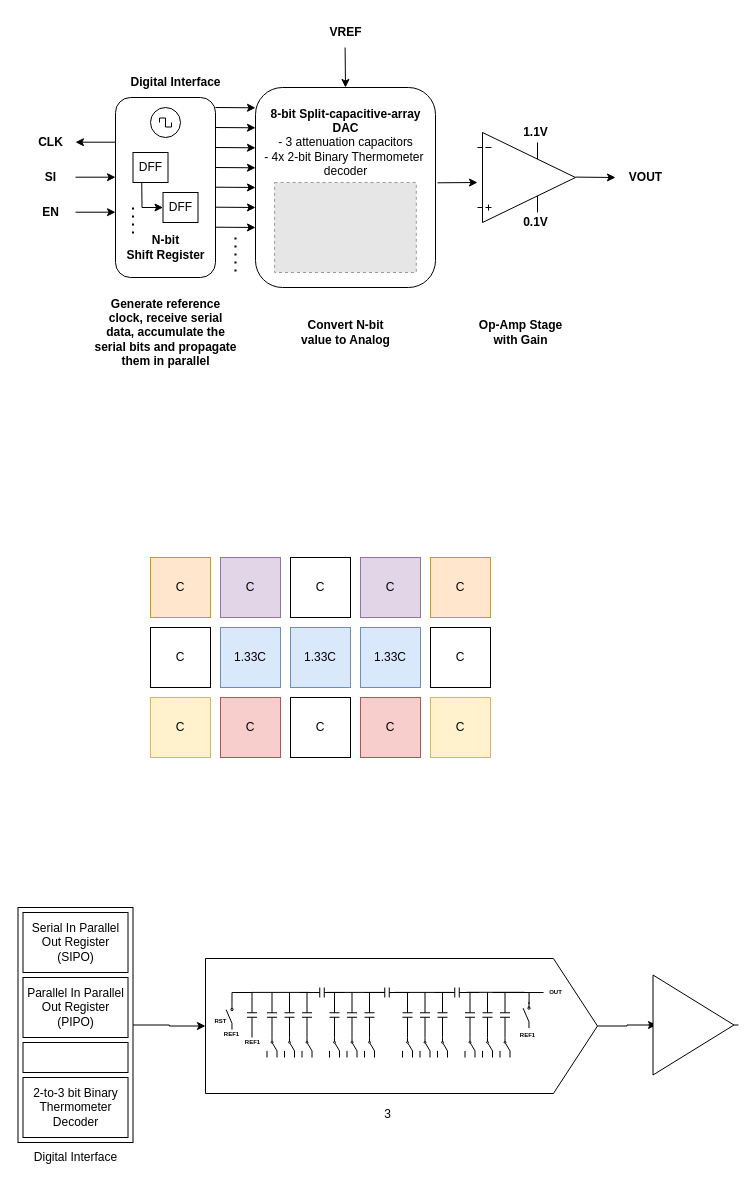
The diagram is 756 pixels wide and 1189 high, and some of its shapes have lost their labels. Grey dashed boxes stand in for pictures. Each missing label, with the centre of its shape:
"Reset logic" belongs at point 75,1057.
"X1" belongs at point 693,1024.
